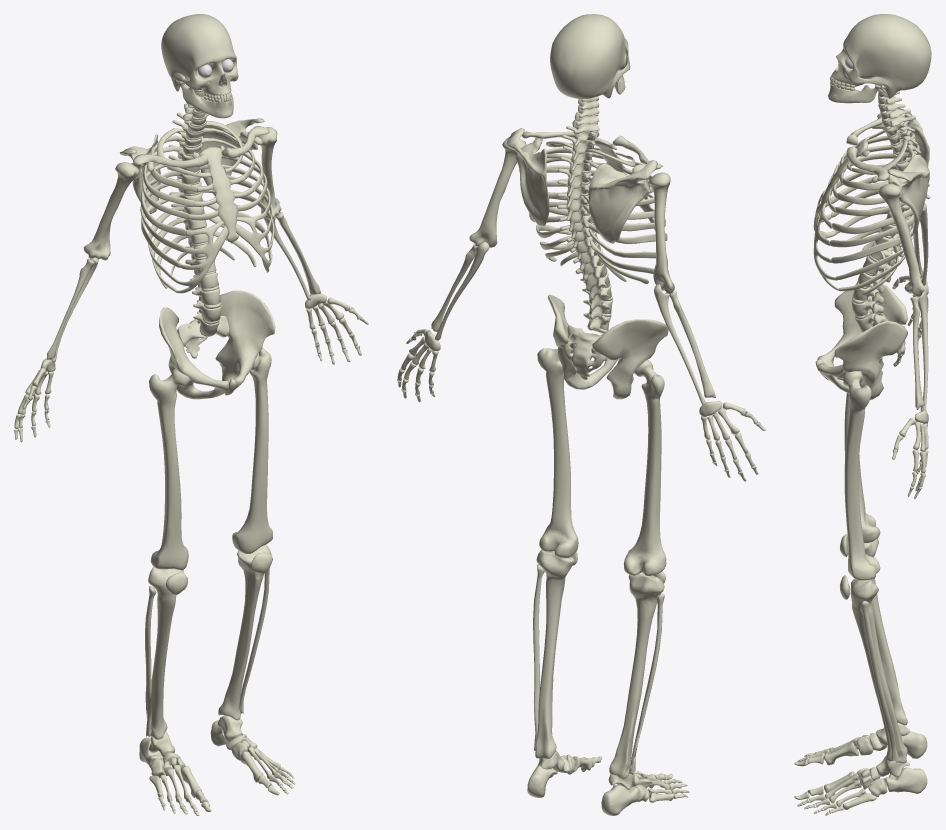
The model's file is G_Male_Skeletal_6.fbx.
3 renders of one model, left to right at view 1: azimuth 30°, elevation 25°; view 2: azimuth 150°, elevation 25°; view 3: azimuth 270°, elevation 25°, orthographic. The views are drawn at different scales.
Visible parts, largest first — view 1: G_MaleBody_Skeletal_Ribs_6, G_MaleBody_Skeletal_LegRight_6, G_MaleBody_Skeletal_LegLeft_6, G_MaleBody_Skeletal_Pelvis_6, G_MaleBody_Skeletal_Skull_6, G_MaleBody_Skeletal_Spine_6, G_MaleBody_Skeletal_FeetRight_6, G_MaleBody_Skeletal_ArmRight_6, G_MaleBody_Skeletal_FeetLeft_6, G_MaleBody_Skeletal_ArmLeft_6, G_MaleBody_Skeletal_HandLeft_6, G_MaleBody_Skeletal_HandRight_6 (+2 smaller); view 2: G_MaleBody_Skeletal_LegRight_6, G_MaleBody_Skeletal_LegLeft_6, G_MaleBody_Skeletal_Pelvis_6, G_MaleBody_Skeletal_Ribs_6, G_MaleBody_Skeletal_Spine_6, G_MaleBody_Skeletal_Skull_6, G_MaleBody_Skeletal_ScapulaRight_6, G_MaleBody_Skeletal_ArmRight_6, G_MaleBody_Skeletal_ArmLeft_6, G_MaleBody_Skeletal_ScapulaLeft_6, G_MaleBody_Skeletal_FeetRight_6, G_MaleBody_Skeletal_HandRight_6 (+2 smaller); view 3: G_MaleBody_Skeletal_Ribs_6, G_MaleBody_Skeletal_LegLeft_6, G_MaleBody_Skeletal_Skull_6, G_MaleBody_Skeletal_Pelvis_6, G_MaleBody_Skeletal_Spine_6, G_MaleBody_Skeletal_FeetLeft_6, G_MaleBody_Skeletal_ArmLeft_6, G_MaleBody_Skeletal_LegRight_6, G_MaleBody_Skeletal_FeetRight_6, G_MaleBody_Skeletal_ScapulaLeft_6, G_MaleBody_Skeletal_HandLeft_6, G_MaleBody_Skeletal_ArmRight_6 (+2 smaller).
Part boxes in pixels (bbox=[...]): G_MaleBody_Skeletal_Ribs_6: bbox=[133, 121, 274, 293]; G_MaleBody_Skeletal_LegRight_6: bbox=[145, 368, 190, 739]; G_MaleBody_Skeletal_LegLeft_6: bbox=[218, 348, 272, 720]; G_MaleBody_Skeletal_Pelvis_6: bbox=[159, 290, 275, 399]; G_MaleBody_Skeletal_Skull_6: bbox=[161, 14, 238, 118]; G_MaleBody_Skeletal_Spine_6: bbox=[167, 84, 221, 336]; G_MaleBody_Skeletal_FeetRight_6: bbox=[139, 731, 211, 815]; G_MaleBody_Skeletal_ArmRight_6: bbox=[46, 162, 139, 362]; G_MaleBody_Skeletal_FeetLeft_6: bbox=[210, 715, 295, 795]; G_MaleBody_Skeletal_ArmLeft_6: bbox=[257, 127, 320, 300]; G_MaleBody_Skeletal_HandLeft_6: bbox=[305, 293, 368, 364]; G_MaleBody_Skeletal_HandRight_6: bbox=[14, 358, 55, 442]; G_MaleBody_Skeletal_LegRight_6: bbox=[609, 359, 666, 779]; G_MaleBody_Skeletal_LegLeft_6: bbox=[533, 348, 578, 758]; G_MaleBody_Skeletal_Pelvis_6: bbox=[547, 294, 668, 399]; G_MaleBody_Skeletal_Ribs_6: bbox=[522, 130, 667, 283]; G_MaleBody_Skeletal_Spine_6: bbox=[556, 96, 612, 333]; G_MaleBody_Skeletal_Skull_6: bbox=[550, 14, 630, 99]; G_MaleBody_Skeletal_ScapulaRight_6: bbox=[588, 160, 657, 243]; G_MaleBody_Skeletal_ArmRight_6: bbox=[648, 172, 715, 404]; G_MaleBody_Skeletal_ArmLeft_6: bbox=[431, 137, 526, 340]; G_MaleBody_Skeletal_ScapulaLeft_6: bbox=[507, 128, 549, 226]; G_MaleBody_Skeletal_FeetRight_6: bbox=[601, 771, 689, 815]; G_MaleBody_Skeletal_HandRight_6: bbox=[699, 401, 765, 481]; G_MaleBody_Skeletal_Ribs_6: bbox=[813, 113, 919, 295]; G_MaleBody_Skeletal_LegLeft_6: bbox=[840, 371, 907, 763]; G_MaleBody_Skeletal_Skull_6: bbox=[828, 14, 931, 103]; G_MaleBody_Skeletal_Pelvis_6: bbox=[815, 284, 907, 399]; G_MaleBody_Skeletal_Spine_6: bbox=[851, 87, 930, 332]; G_MaleBody_Skeletal_FeetLeft_6: bbox=[794, 756, 927, 815]; G_MaleBody_Skeletal_ArmLeft_6: bbox=[878, 183, 928, 411]; G_MaleBody_Skeletal_LegRight_6: bbox=[840, 393, 907, 725]; G_MaleBody_Skeletal_FeetRight_6: bbox=[794, 722, 927, 766]; G_MaleBody_Skeletal_ScapulaLeft_6: bbox=[871, 154, 929, 235]; G_MaleBody_Skeletal_HandLeft_6: bbox=[892, 410, 928, 499]; G_MaleBody_Skeletal_ArmRight_6: bbox=[883, 129, 928, 285].
Bounding box in the file's own units: 86.96 × 181 × 29.35.
